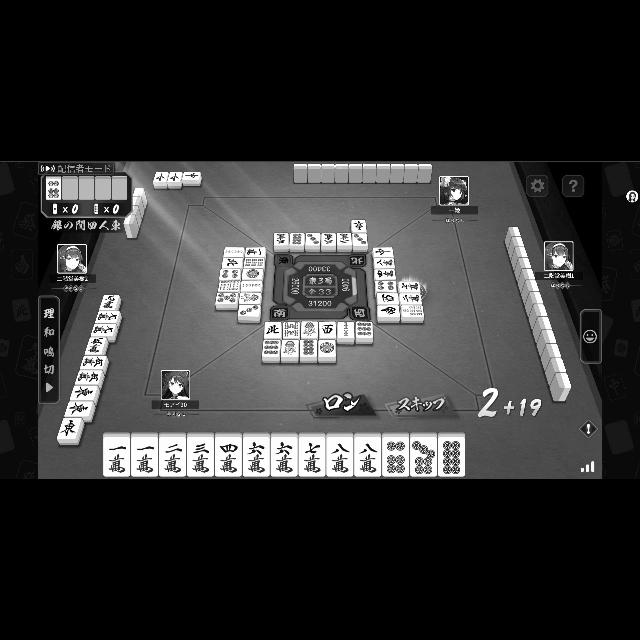1m: (106, 444, 128, 474), (136, 444, 156, 474), (246, 248, 264, 256)
1p: (320, 341, 334, 355), (246, 270, 260, 278)
1s: (283, 340, 297, 356), (303, 322, 317, 336), (240, 294, 260, 302)
2m: (162, 444, 184, 474), (402, 295, 420, 303), (339, 233, 351, 244)
2s: (340, 322, 352, 338), (225, 248, 243, 256), (241, 284, 261, 290)
3m: (190, 444, 210, 474), (276, 233, 286, 244), (324, 234, 334, 244)
3p: (239, 306, 259, 316), (353, 234, 367, 246), (307, 233, 319, 244)
4m: (217, 444, 240, 474), (378, 270, 394, 278)
4p: (378, 281, 394, 291), (222, 270, 238, 278)
5m: (76, 371, 100, 383), (82, 357, 105, 368), (88, 338, 104, 352)
5s: (217, 293, 237, 303)
6m: (246, 442, 268, 474), (274, 442, 294, 474)
6p: (385, 442, 405, 474), (48, 180, 60, 198)
6s: (220, 281, 238, 291)
7m: (300, 442, 324, 474), (401, 283, 419, 291)
7p: (412, 441, 436, 475)
7s: (403, 306, 423, 316)
8m: (328, 442, 352, 474), (358, 442, 378, 474), (376, 259, 394, 267)
8p: (441, 440, 461, 476), (302, 340, 316, 356), (292, 233, 302, 245)
8s: (284, 322, 298, 338)
9m: (98, 312, 118, 322), (102, 296, 116, 308), (94, 326, 115, 334)
9p: (356, 323, 372, 337), (264, 340, 278, 356)
9s: (245, 258, 263, 268)
chun: (374, 248, 392, 256), (184, 172, 200, 180), (170, 172, 180, 182), (155, 172, 165, 182)
nan: (380, 306, 398, 316)
pe: (266, 324, 280, 336), (224, 258, 240, 268)
sha: (321, 324, 335, 336), (379, 294, 396, 302)
tou: (60, 420, 78, 438), (68, 402, 90, 416), (74, 386, 95, 399), (353, 220, 365, 232)
